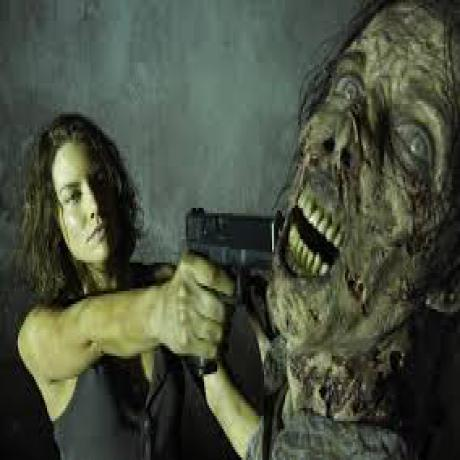Guns: (179, 186, 276, 376)
